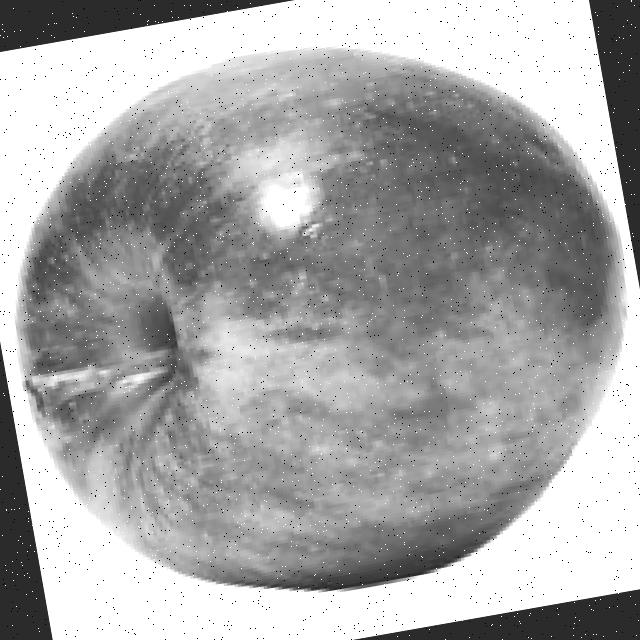apple: (0, 1, 640, 640), (0, 0, 640, 638)
